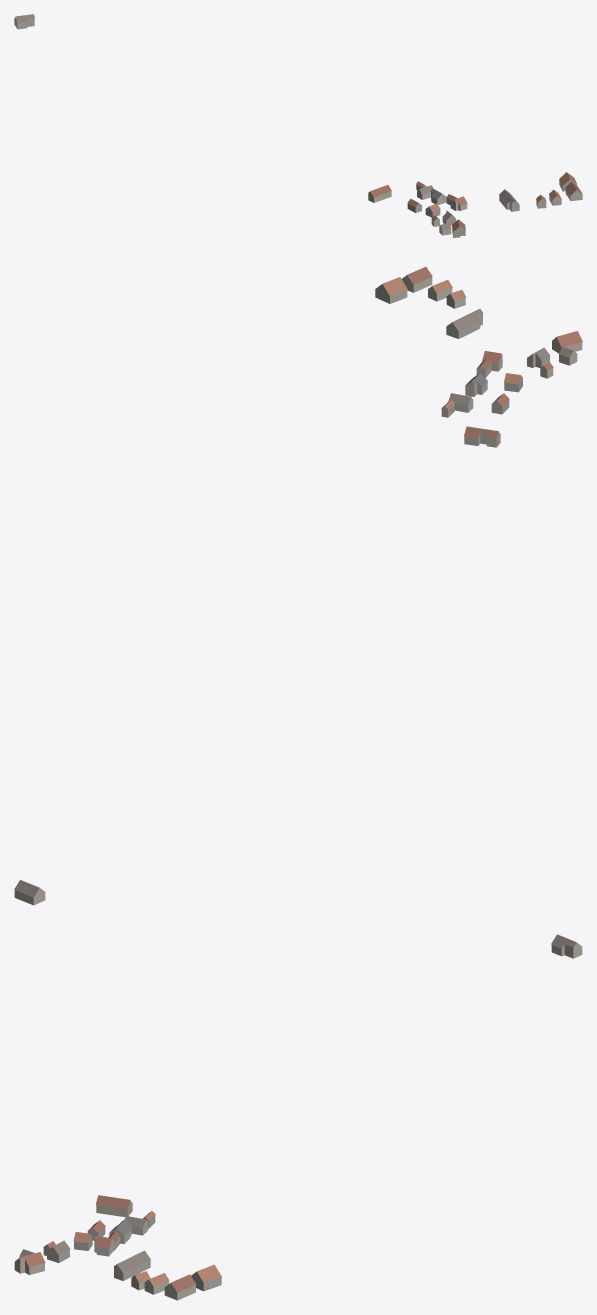
3 views of the same model, one above another, from view 1: azimuth 30°, elevation 25°; view 2: azimuth 150°, elevation 25°; view 3: azimuth 330°, elevation 25° (orthographic). The views are drawn at different scales.
Visible parts, largest first — view 1: buildings; view 2: buildings; view 3: buildings.
Boxes of the visible parts, <box> form: buildings: <box>14,14,582,237</box>; buildings: <box>14,266,582,905</box>; buildings: <box>14,934,582,1300</box>.
Size of the model in its own units: 176 by 110 by 785.
